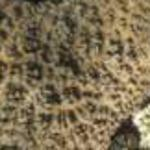alive: (4, 6, 145, 147)
